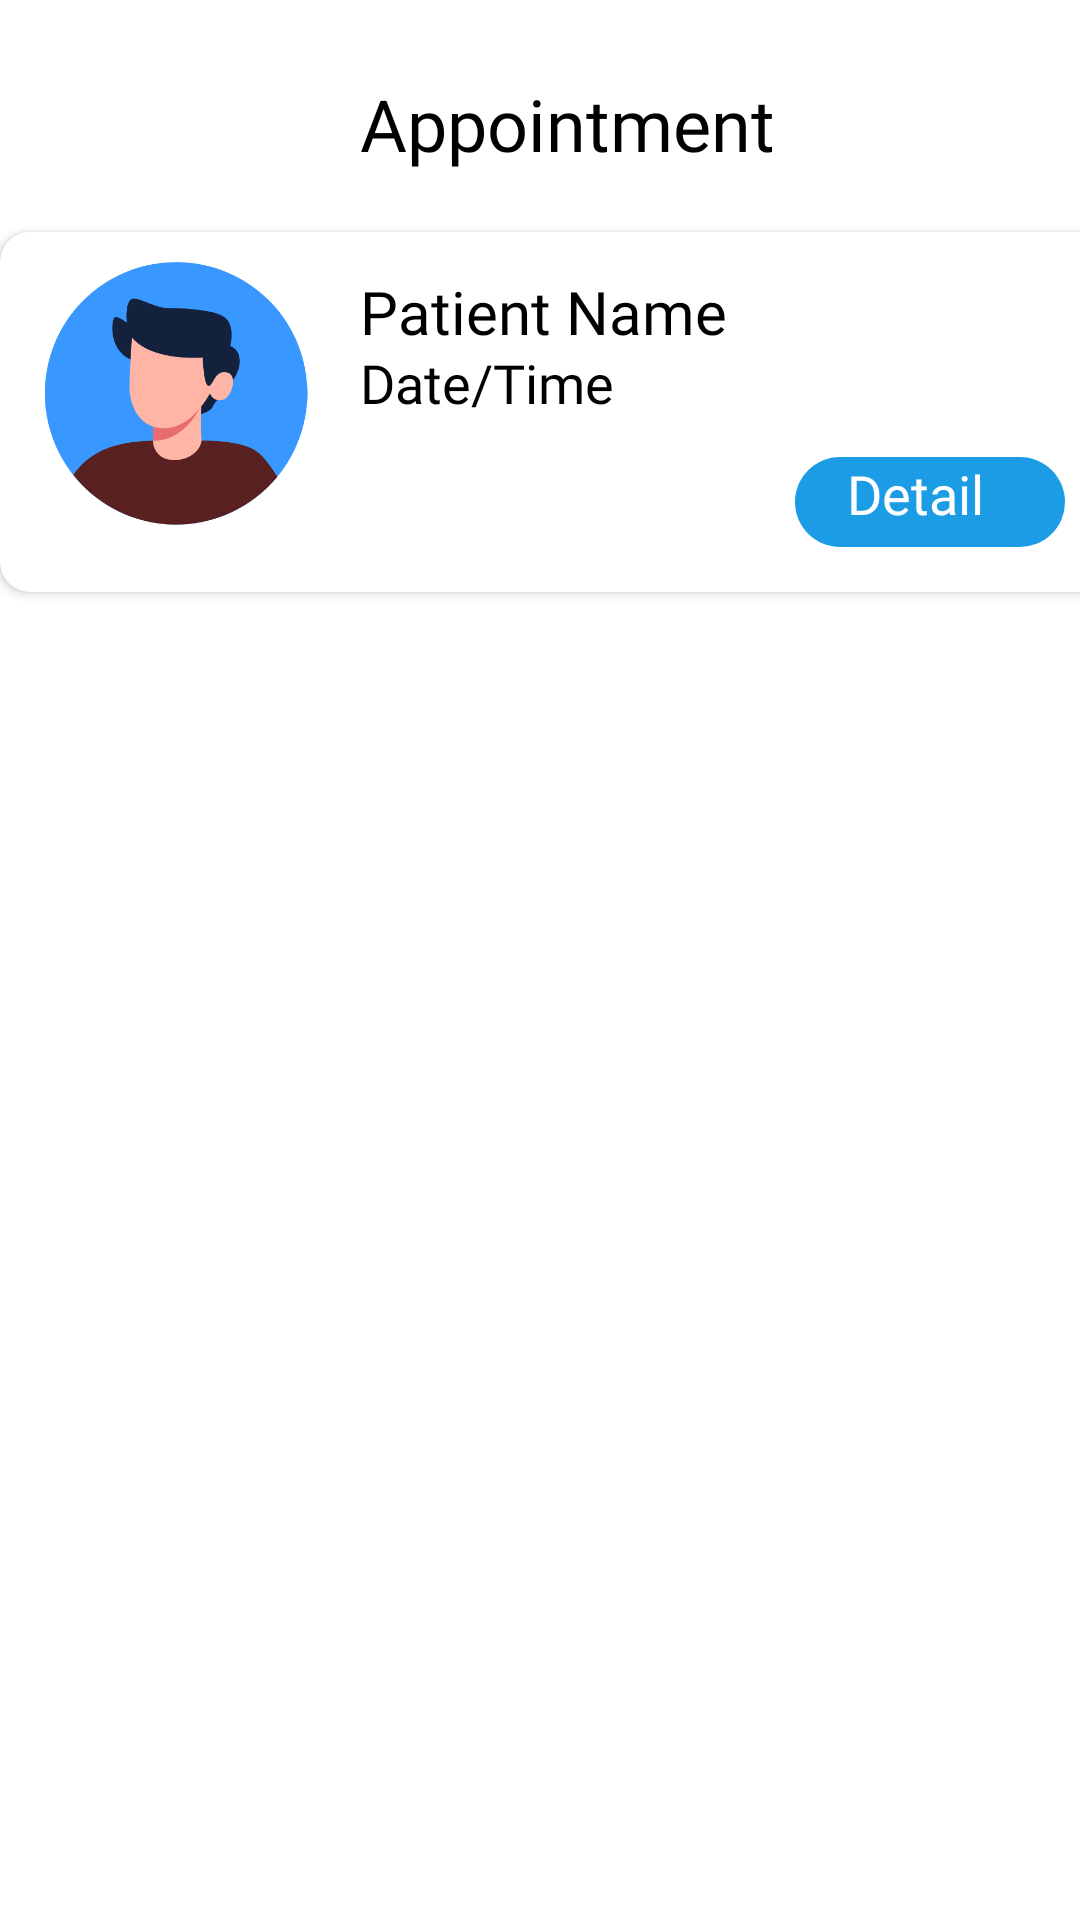

Where icons sit on this 1080w x 1920h app screen, as Rect(x1, y1, x2, y2):
person: Rect(45, 262, 308, 525)
